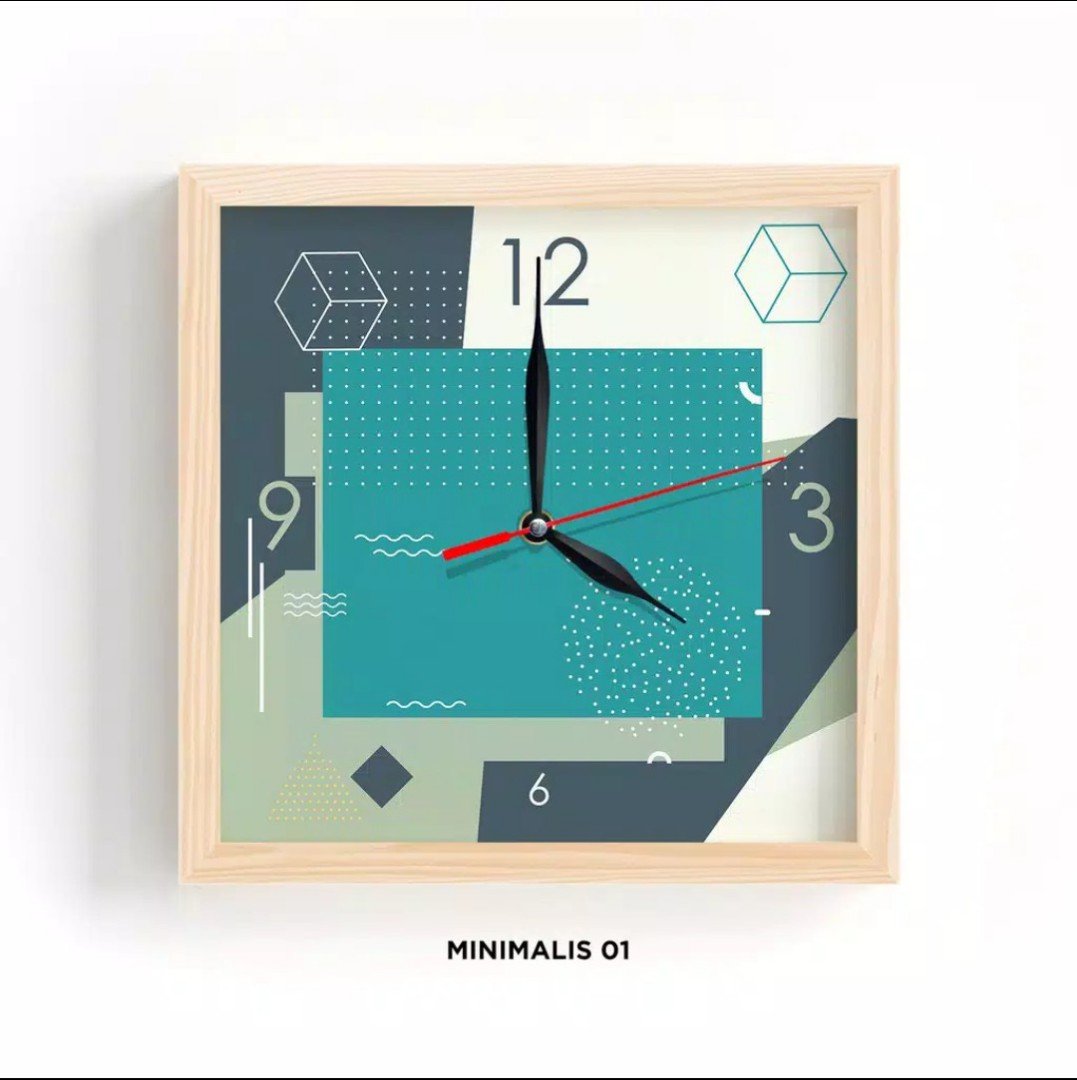jam dinding: (122, 136, 951, 927)
